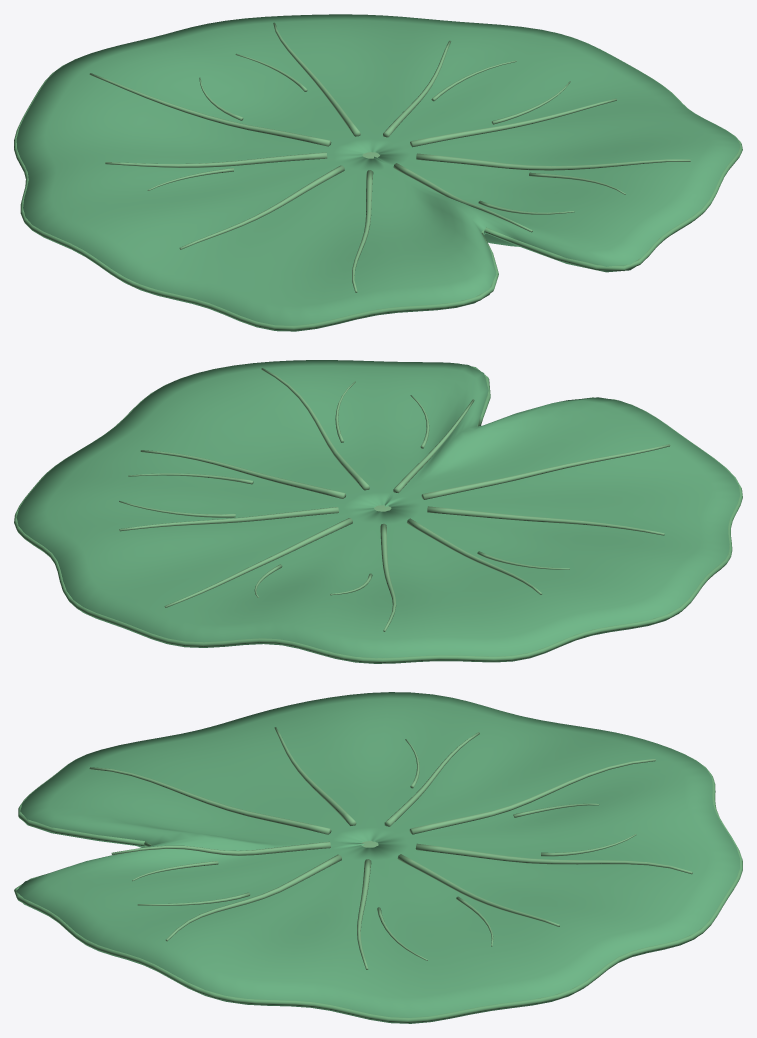
The model's file is lotus_pad_01.glb.
The picture shows the model from 3 angles, top to bottom: view 1: azimuth 30°, elevation 25°; view 2: azimuth 150°, elevation 25°; view 3: azimuth 270°, elevation 25°; orthographic projection. The views are drawn at different scales.
Parts seen in each view (by area): view 1: leaf_satin_green_SeatRoot_object, leaf_vein_sage_SeatRoot_object, leaf_edge_lime_SeatRoot_object; view 2: leaf_satin_green_SeatRoot_object, leaf_vein_sage_SeatRoot_object, leaf_edge_lime_SeatRoot_object; view 3: leaf_satin_green_SeatRoot_object, leaf_vein_sage_SeatRoot_object, leaf_edge_lime_SeatRoot_object.
Part boxes in pixels (box(x1,y1,x2,y2)): leaf_satin_green_SeatRoot_object: box(16, 14, 739, 331); leaf_vein_sage_SeatRoot_object: box(89, 22, 690, 292); leaf_edge_lime_SeatRoot_object: box(14, 32, 742, 330); leaf_satin_green_SeatRoot_object: box(16, 360, 739, 663); leaf_vein_sage_SeatRoot_object: box(119, 368, 670, 631); leaf_edge_lime_SeatRoot_object: box(14, 363, 742, 663); leaf_satin_green_SeatRoot_object: box(16, 692, 739, 1023); leaf_vein_sage_SeatRoot_object: box(89, 727, 692, 969); leaf_edge_lime_SeatRoot_object: box(14, 747, 742, 1022).
Bounding box in the file's own units: 2.08 × 0.4819 × 2.03.
